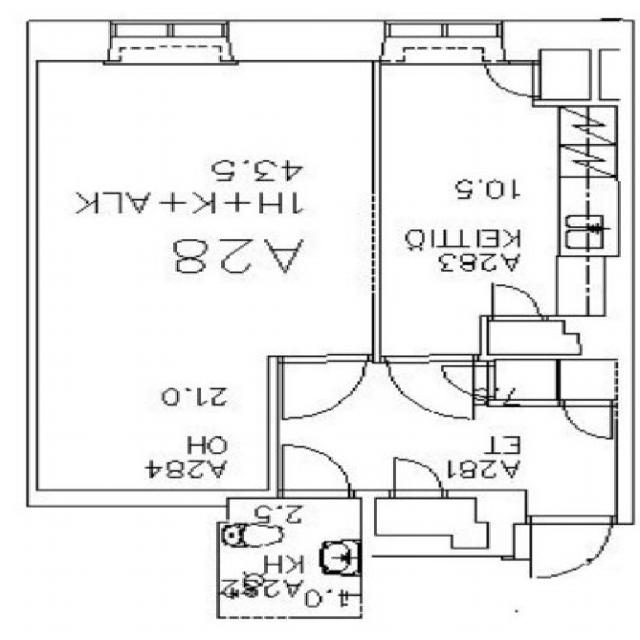door: (386, 353, 474, 419), (282, 353, 368, 417), (531, 515, 611, 579), (282, 445, 349, 498), (394, 457, 442, 498), (564, 399, 612, 439), (483, 64, 541, 97), (492, 283, 542, 321), (440, 365, 496, 396)
